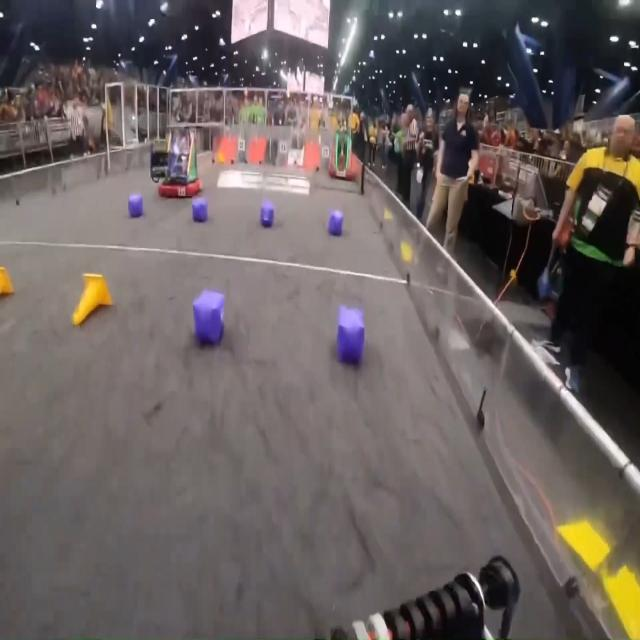robot: (150, 126, 203, 199), (328, 127, 354, 181), (285, 140, 307, 170)
